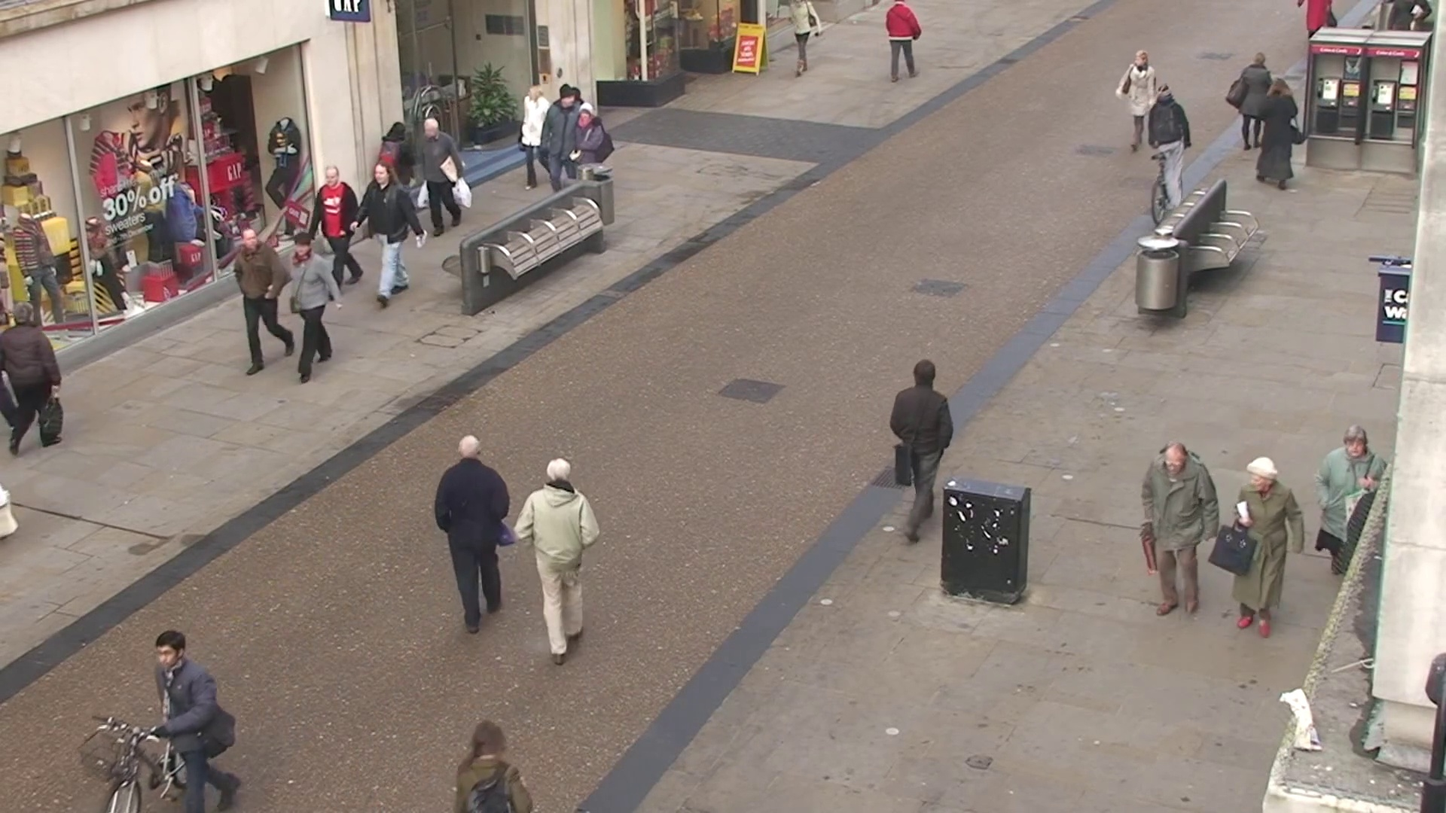person: (502, 457, 602, 665), (433, 432, 512, 635), (1217, 454, 1304, 638), (151, 629, 236, 810), (1141, 442, 1221, 620), (889, 358, 954, 546), (1316, 424, 1385, 577), (0, 306, 66, 455), (361, 155, 420, 309), (233, 230, 295, 375), (282, 242, 341, 384), (454, 722, 535, 813), (1145, 84, 1193, 224), (417, 108, 469, 237), (316, 164, 365, 288), (1252, 69, 1301, 189), (536, 81, 589, 187), (1116, 47, 1160, 154), (1224, 56, 1273, 150), (884, 1, 923, 82)
